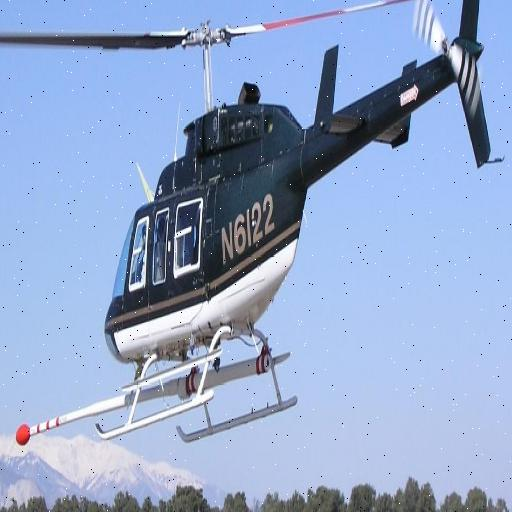helicopter: (1, 1, 503, 447)
